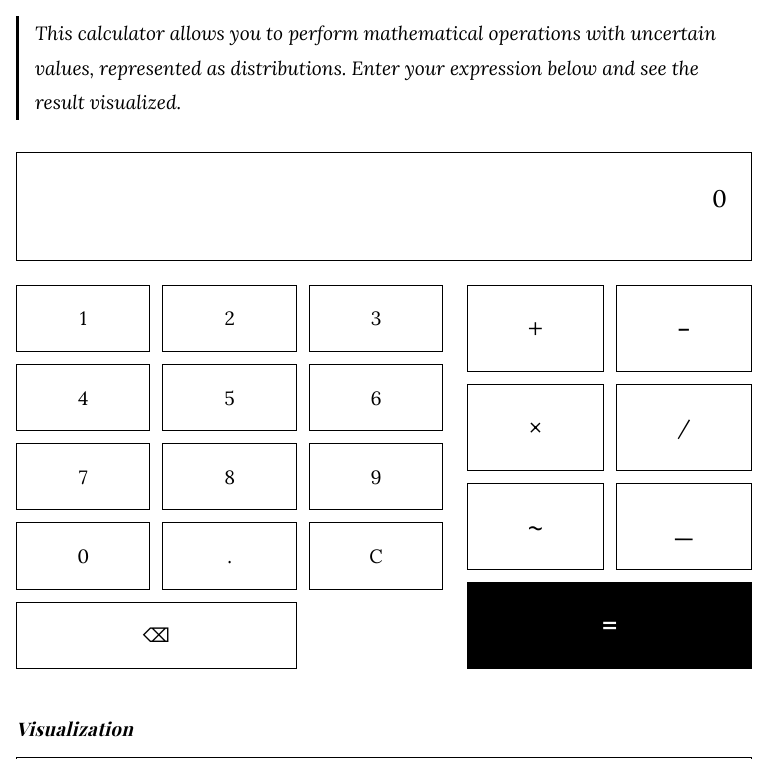
Calculator.vue Integration › should calculate and display the result
# Enter expression: 2 + 3
Click the button "2".
click(230, 318)  # box [162,285,297,352]
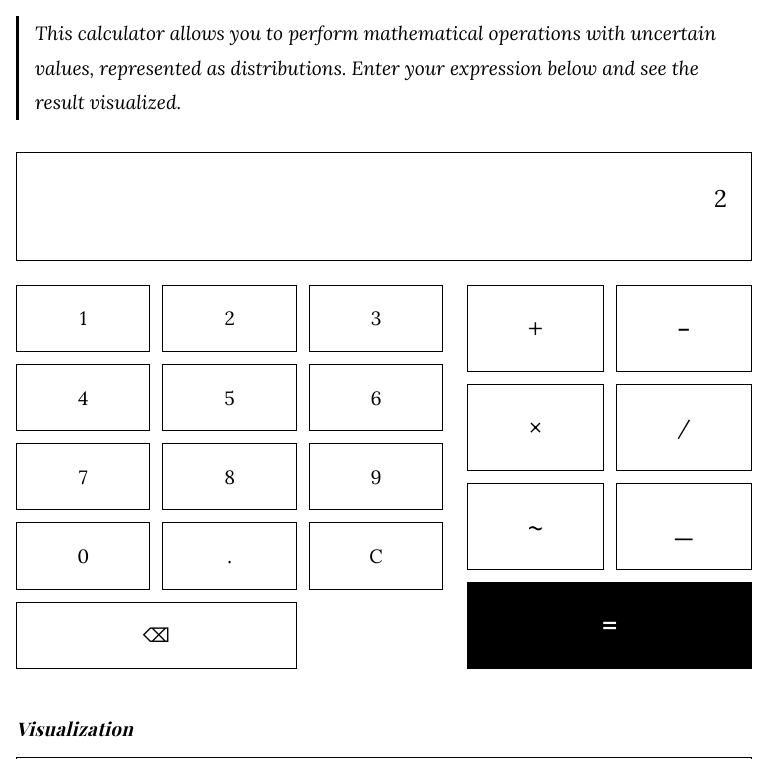
Click the button "+".
click(535, 328)  # box [467,285,604,372]
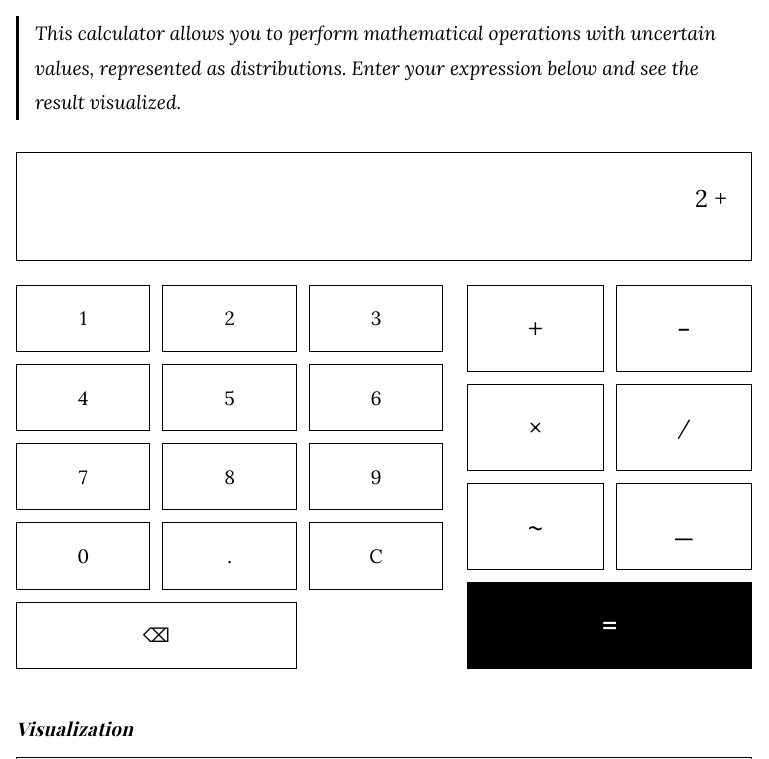
Click the button "3".
click(376, 318)  # box [309,285,443,352]
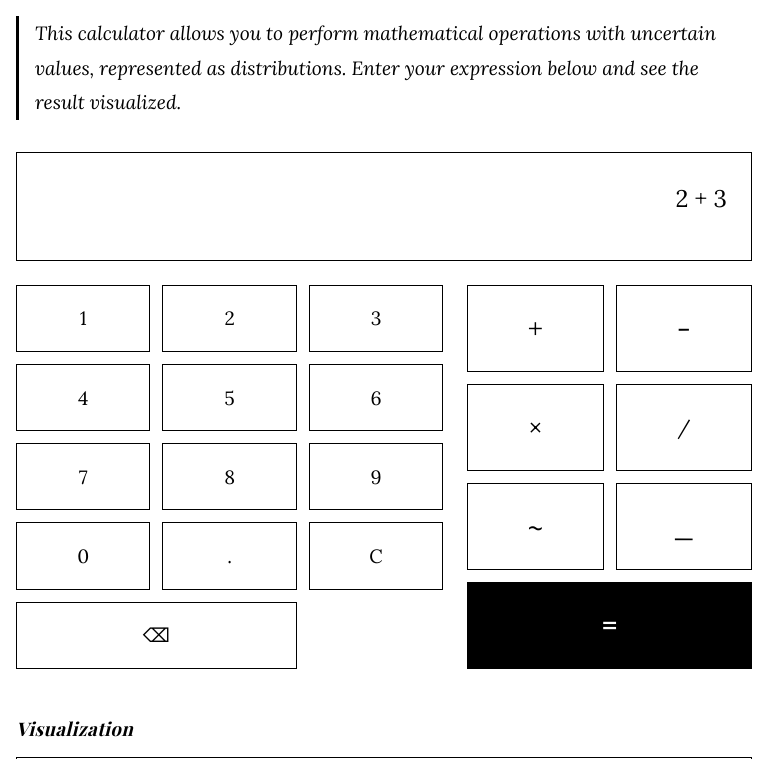
# Click equals button
Click the button with class "equals-button".
click(610, 625)  # box [467,582,752,669]
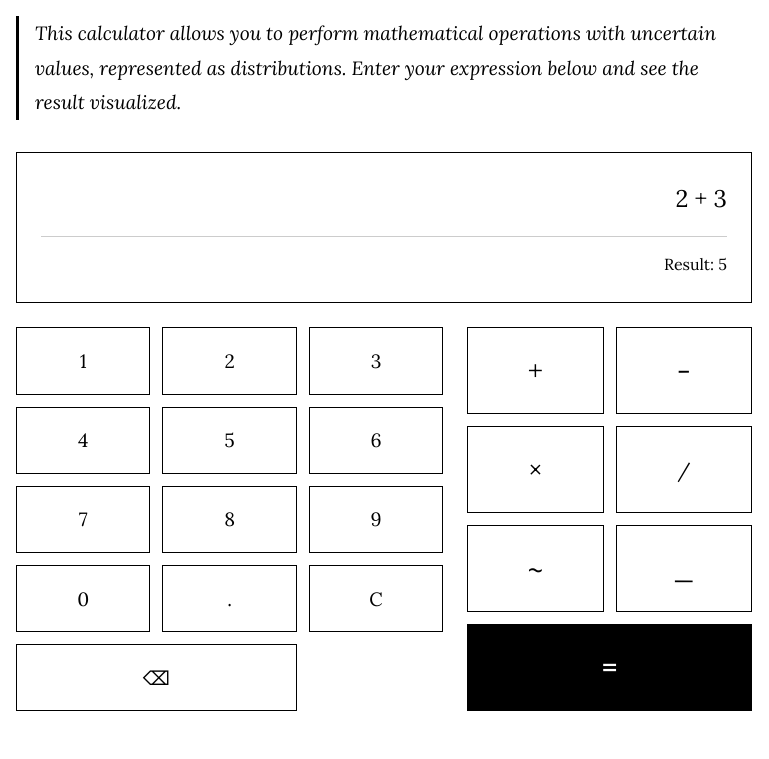
Expected: the text with class "result-display" reads "Result: 5", [664,254,727,274]
